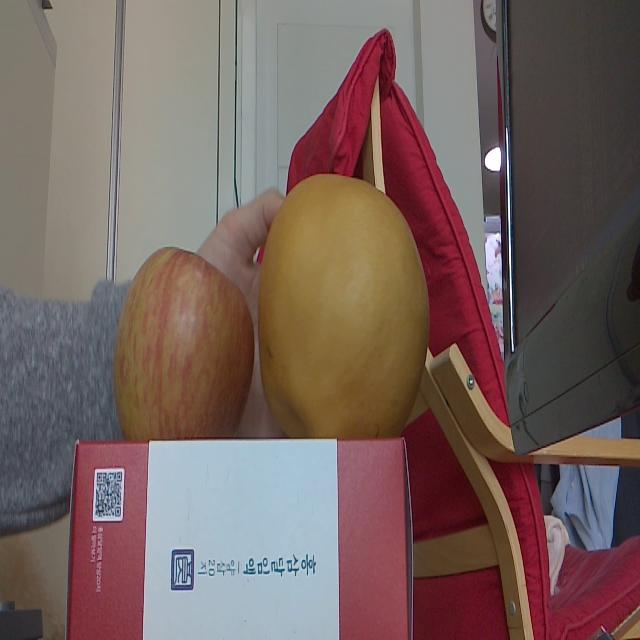apple: (109, 246, 257, 438)
pear: (260, 168, 432, 434)
